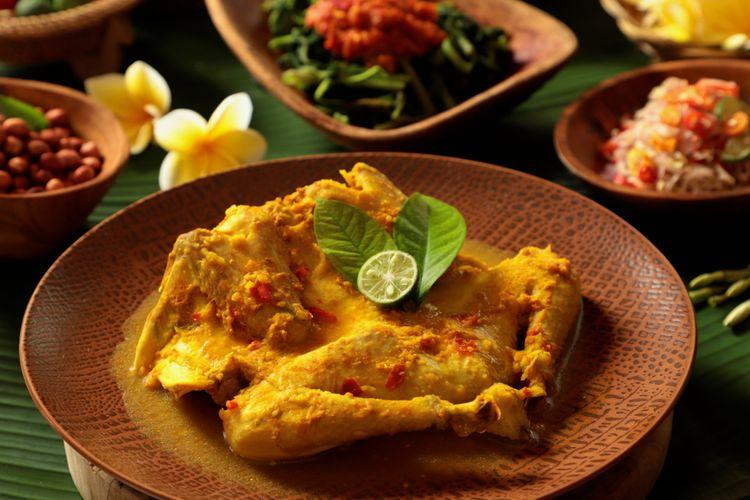ayam_betutu: (138, 162, 582, 462)
